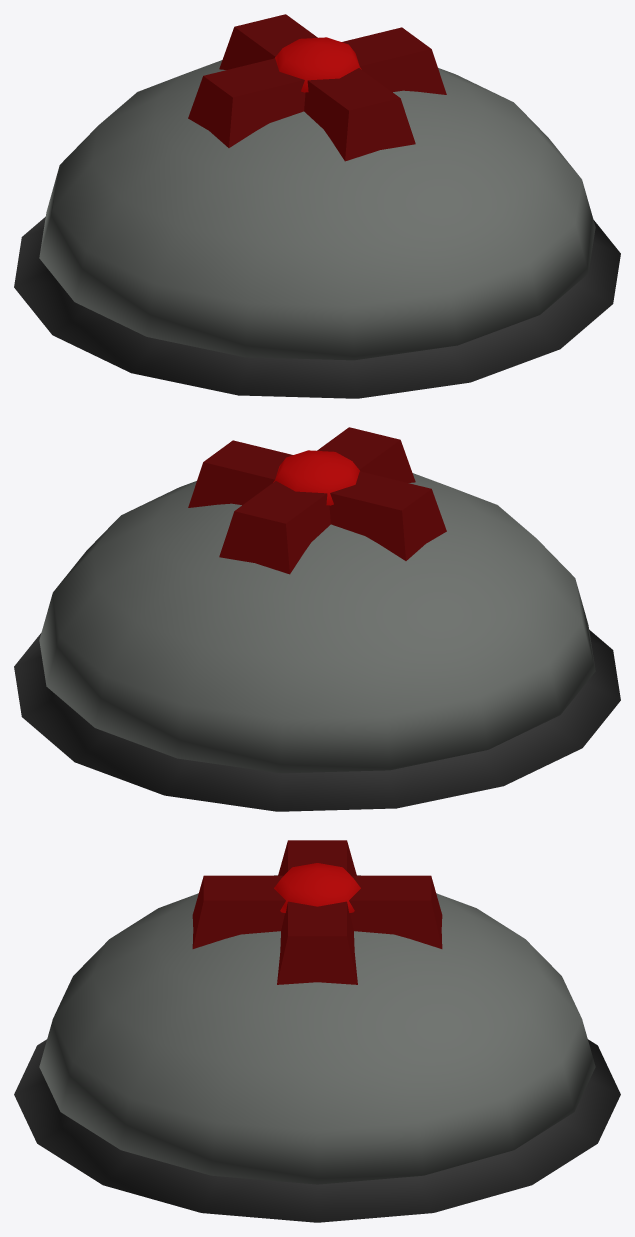
File: newshp-171.glb
3 renders of one model, top to bottom at view 1: azimuth 30°, elevation 25°; view 2: azimuth 150°, elevation 25°; view 3: azimuth 270°, elevation 25°, orthographic.
Parts seen in each view (by area): view 1: newshp-171; view 2: newshp-171; view 3: newshp-171.
Boxes of the visible parts, x1=… form: newshp-171: x1=14, y1=14, x2=620, y2=398; newshp-171: x1=14, y1=427, x2=620, y2=811; newshp-171: x1=14, y1=840, x2=620, y2=1222.
Bounding box in the file's own units: 0.6 × 0.245 × 0.6.
